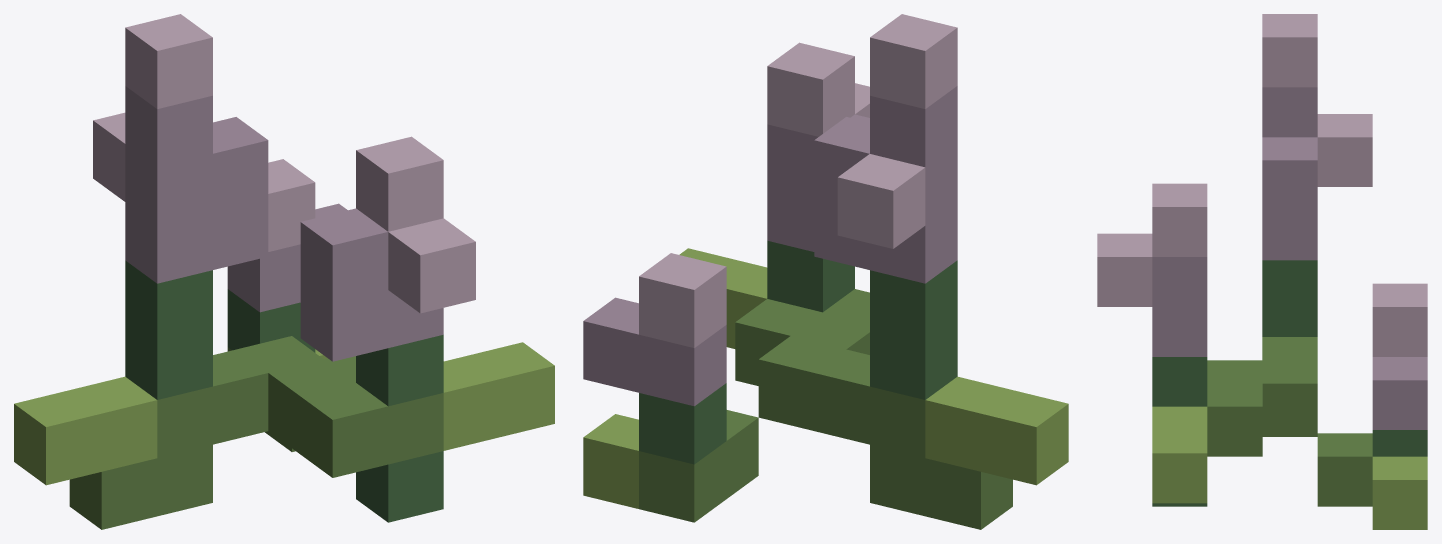
File: hearthvale_foliage_mauve.obj
The picture shows the model from 3 angles, left to right: view 1: azimuth 30°, elevation 25°; view 2: azimuth 150°, elevation 25°; view 3: azimuth 270°, elevation 25°; orthographic projection. The views are drawn at different scales.
Parts seen in each view (by area): view 1: palette_8, palette_2, palette_9, palette_3, palette_4; view 2: palette_2, palette_8, palette_9, palette_3, palette_4; view 3: palette_9, palette_8, palette_2, palette_4, palette_3.
Part boxes in pixels (x1,y1,x2,y2): palette_8: (125, 86, 443, 361); palette_2: (69, 336, 443, 529); palette_9: (93, 14, 475, 313); palette_3: (125, 260, 443, 522); palette_4: (14, 342, 554, 485); palette_2: (639, 289, 1012, 529); palette_8: (583, 86, 957, 406); palette_9: (639, 14, 957, 347); palette_3: (639, 240, 957, 464); palette_4: (583, 248, 1068, 508); palette_9: (1097, 14, 1427, 356); palette_8: (1152, 87, 1427, 429); palette_2: (1207, 337, 1372, 506); palette_4: (1152, 406, 1427, 529); palette_3: (1152, 260, 1427, 506).
Bounding box in the file's own units: 0.5 × 0.5 × 0.375.
